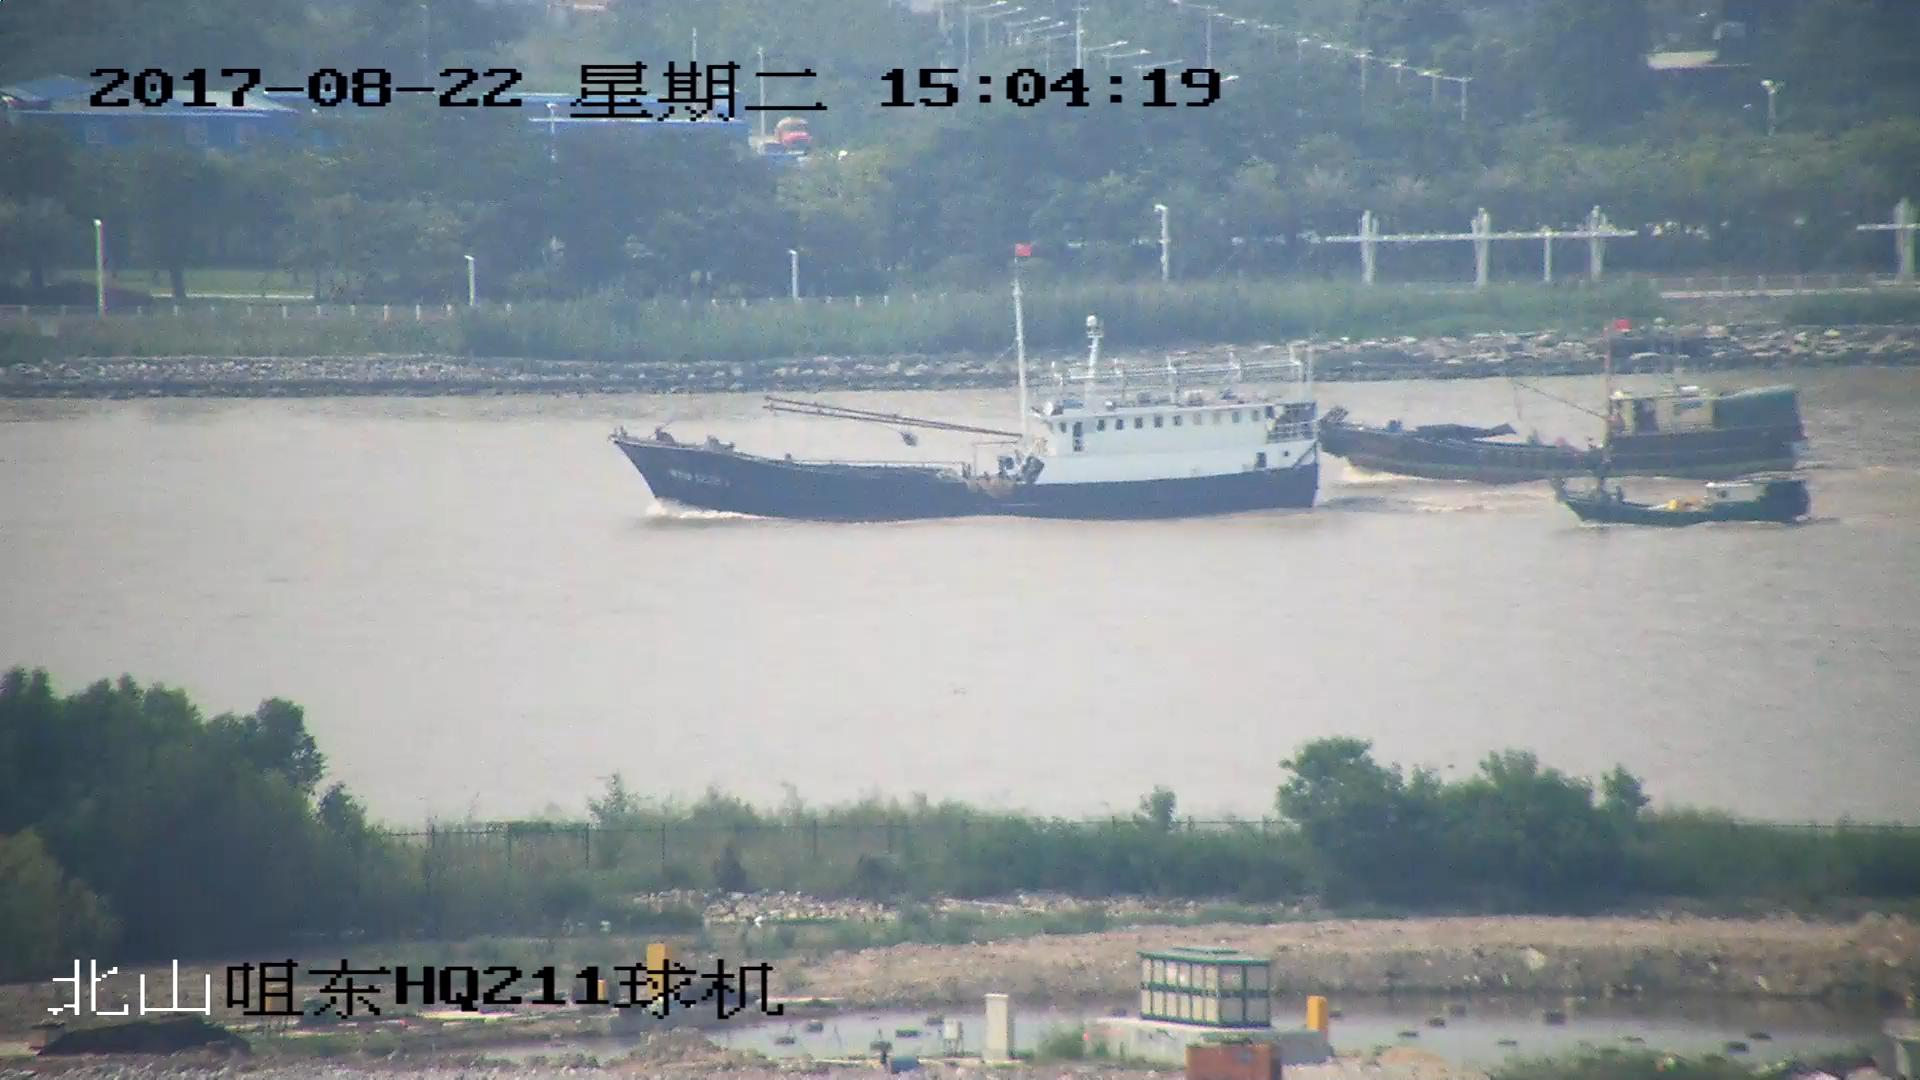fishing boat: (614, 246, 1319, 522), (1318, 312, 1812, 484), (1555, 463, 1804, 529)
